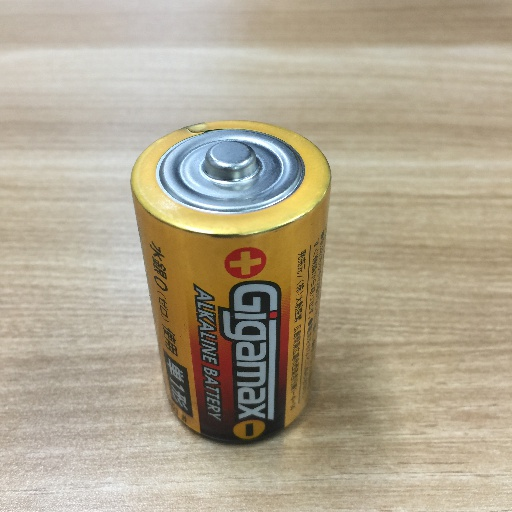Battery_0: (101, 105, 355, 459)
